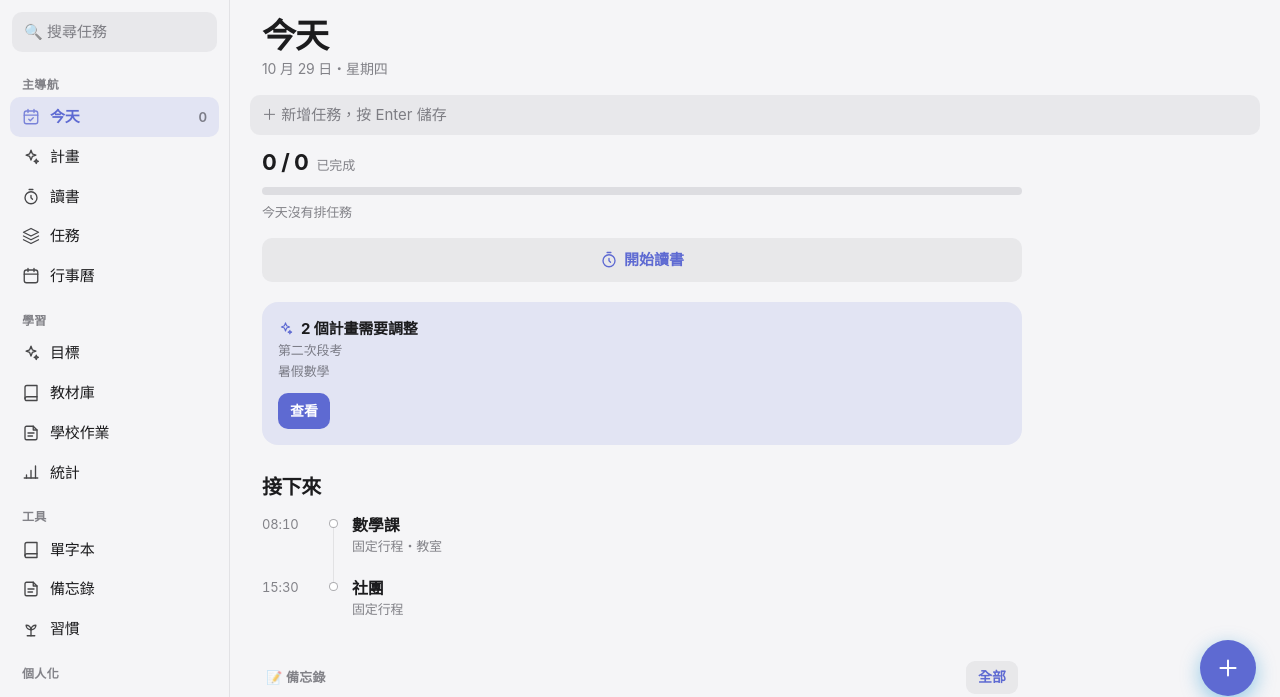
Test case: UI-R1：視覺重構後功能沒有退化 › 6. 多個計畫仍然只顯示摘要，不是堆一排卡片
Expected: the heading "今天" is shown, [262,15,328,56]
Expected: the text "2 個計畫需要調整" is shown, [301,318,418,339]
Click the button "查看": (304, 411) [278,393,330,429]
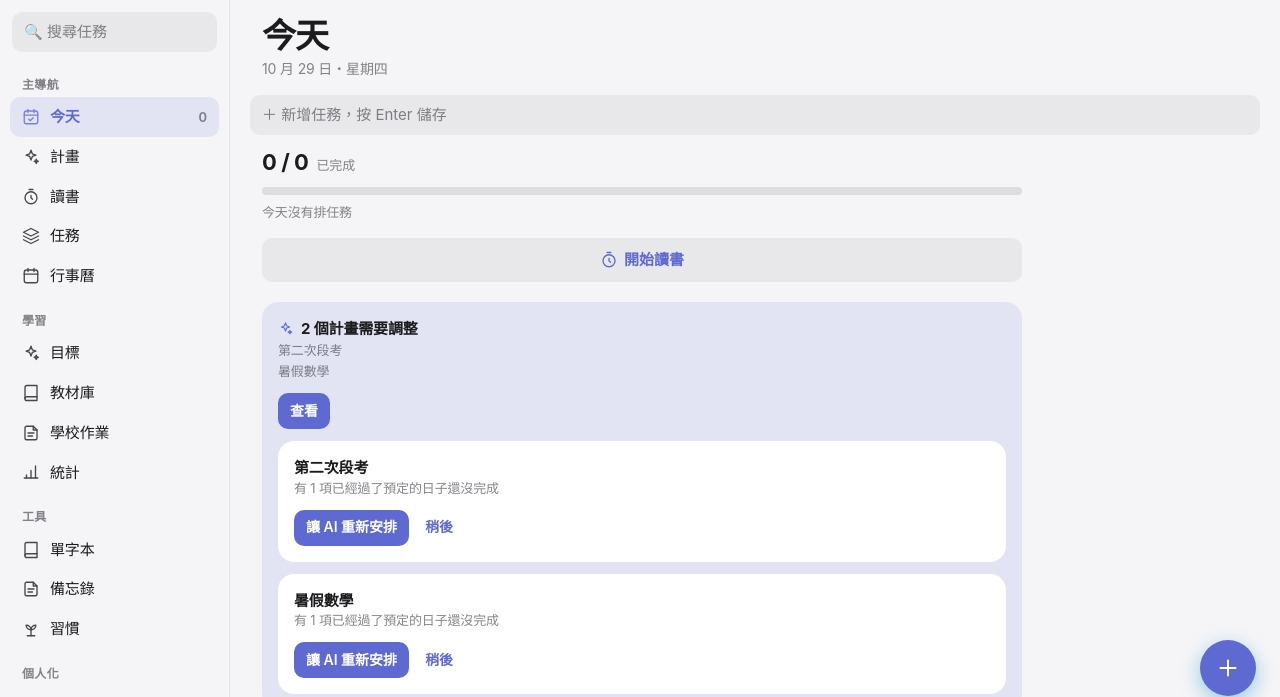
Expected: the number of buttons "讓 AI 重新安排" is 2, [294,510,409,546]; [294,642,409,678]
